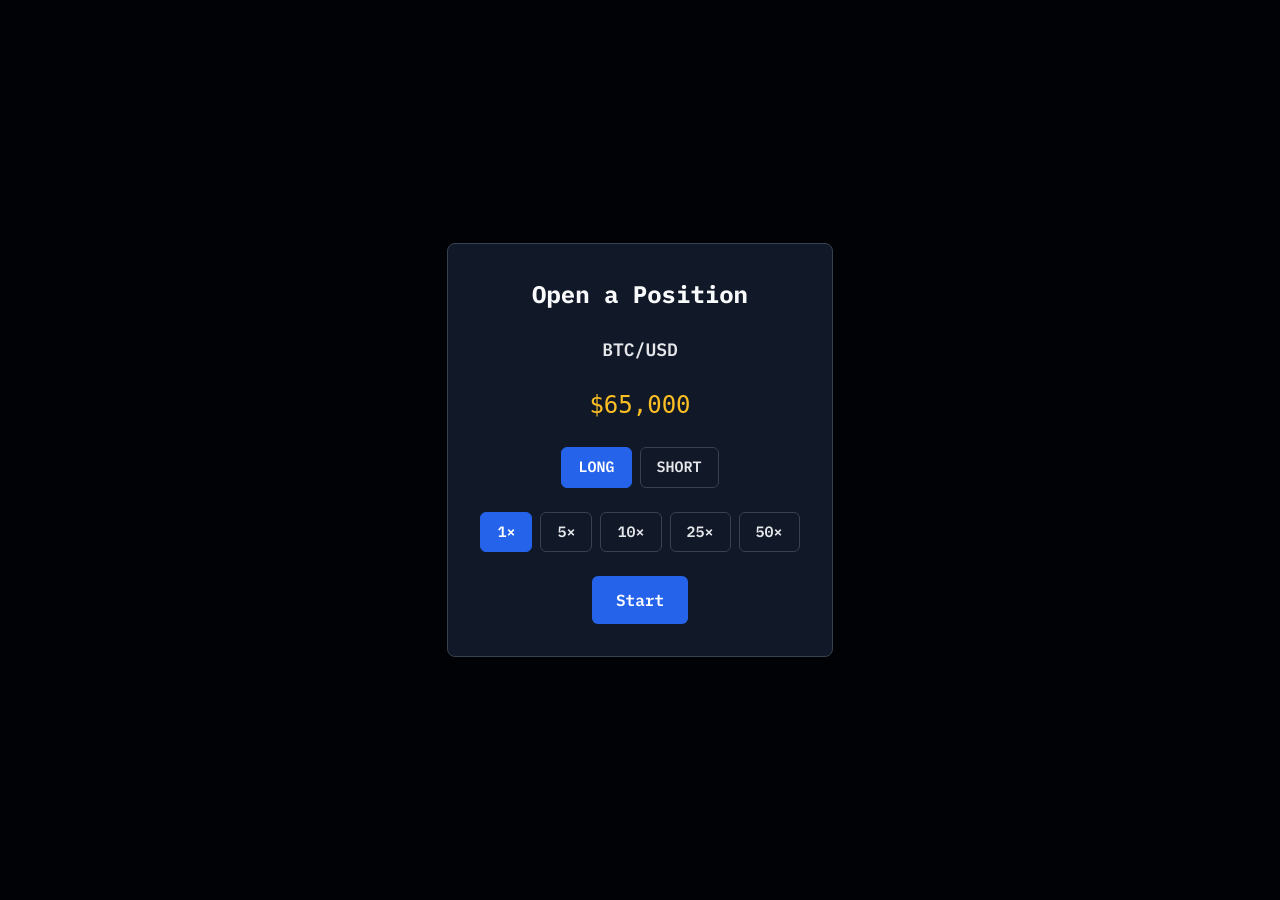
Scenario: GameV2App › stops the loop and reports the failure when a frame throws
The image size is (1280, 900).
Click the button with test id "position-select-start". click: x=640, y=600
box: [592,576,688,624]
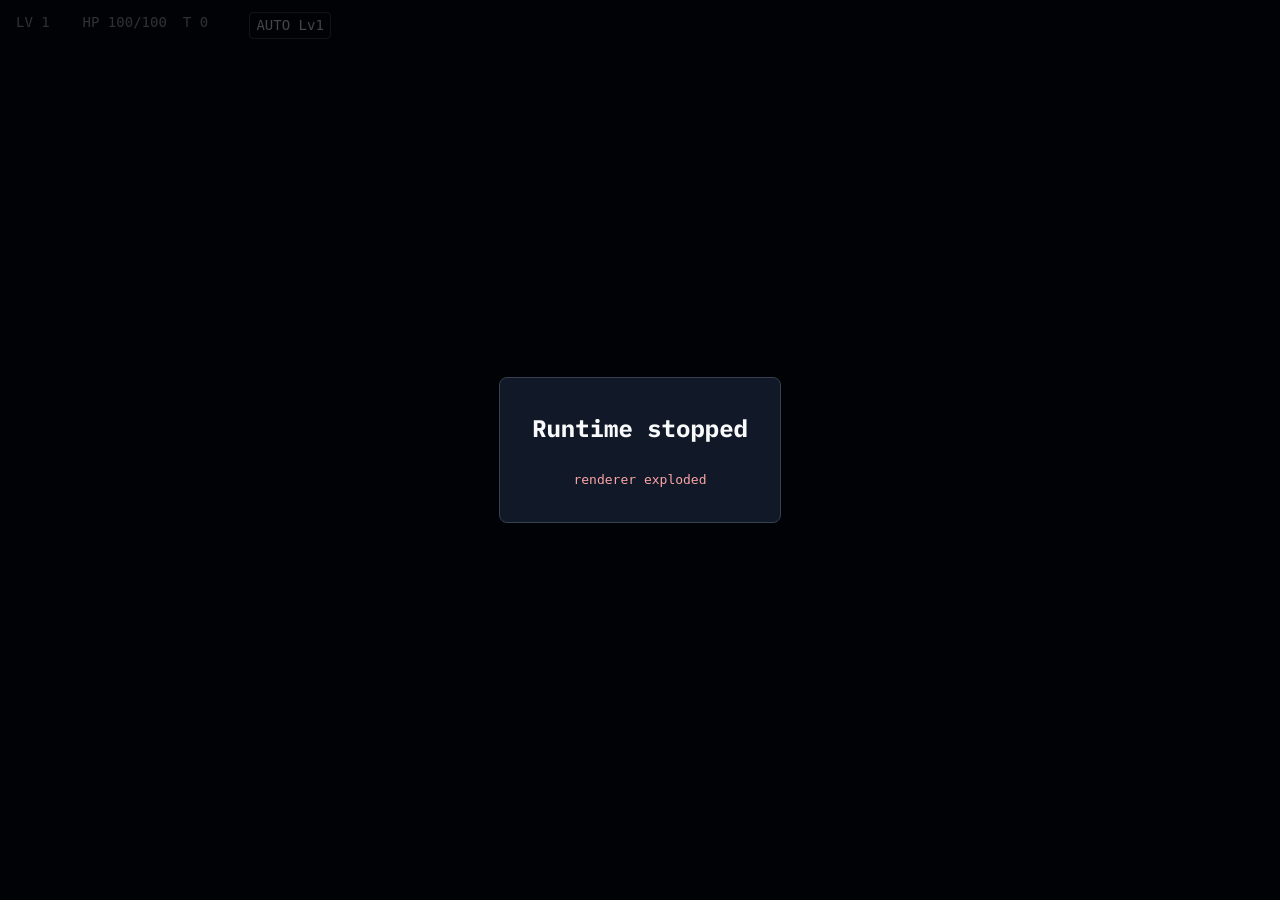
Expected: the element with test id "game-v2-failure-overlay" is shown
